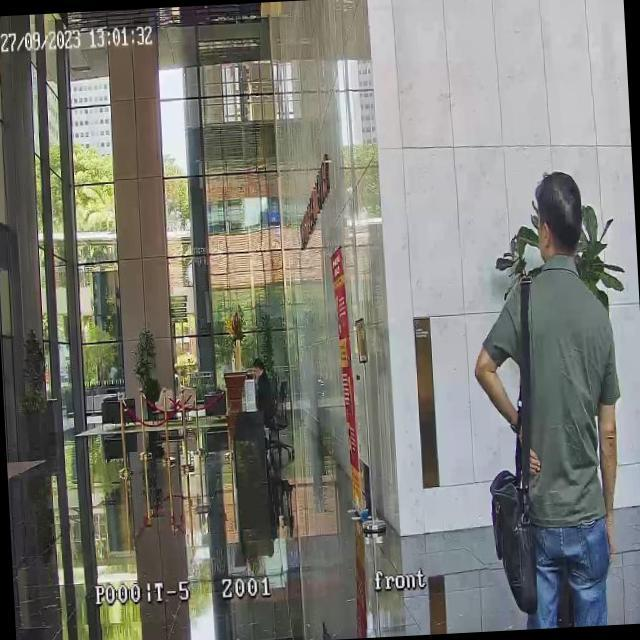person: (464, 170, 633, 626), (251, 358, 277, 418)
